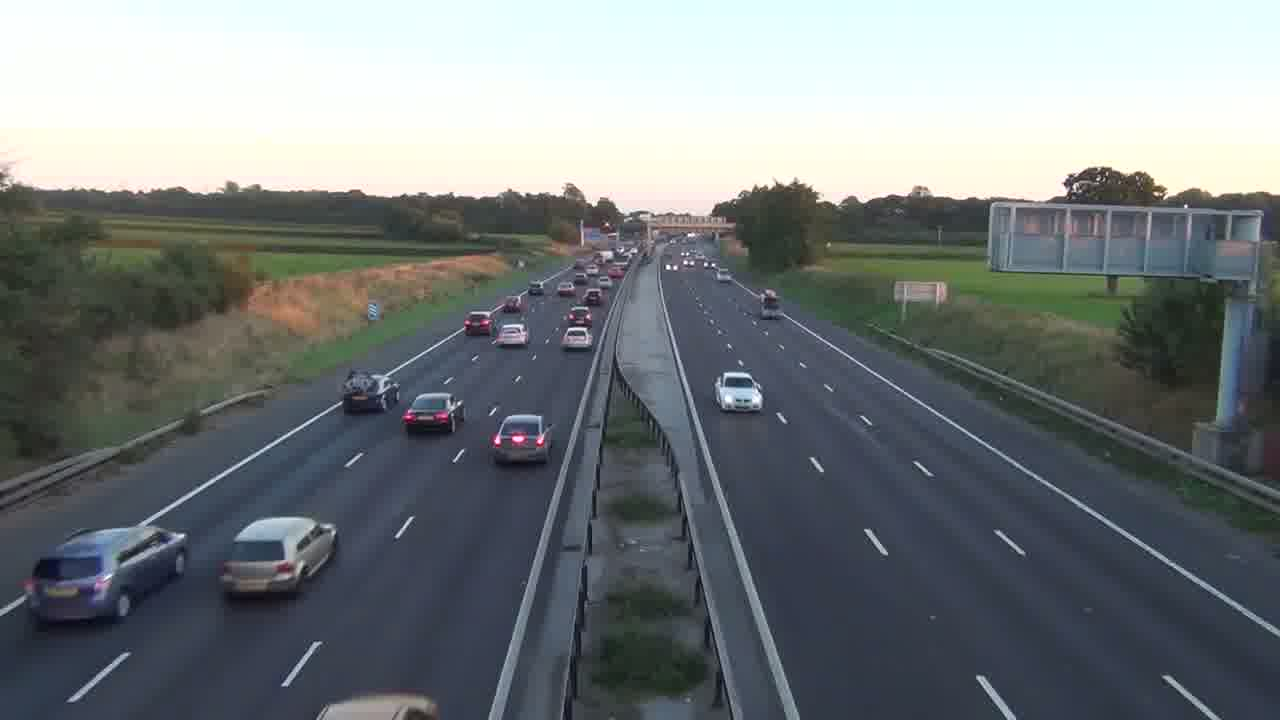car: (216, 514, 339, 598), (490, 413, 552, 465), (401, 393, 462, 435), (712, 370, 764, 414), (560, 324, 593, 351), (565, 305, 592, 326)
truck: (22, 524, 190, 626)
